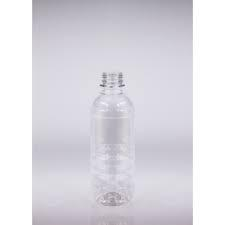bottle: (86, 70, 138, 211)
